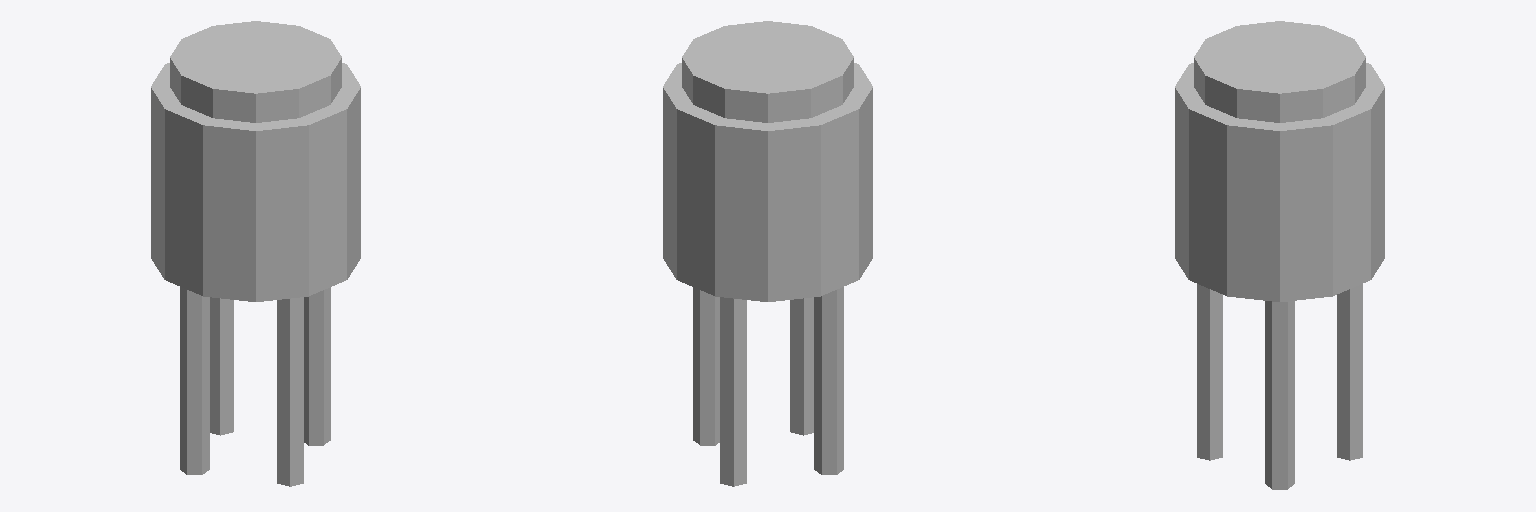
The model's file is tower_1.obj.
The picture shows the model from 3 angles: view 1: azimuth 30°, elevation 25°; view 2: azimuth 150°, elevation 25°; view 3: azimuth 270°, elevation 25°; orthographic projection.
Parts seen in each view (by area): view 1: Cylinder.007; view 2: Cylinder.007; view 3: Cylinder.007.
Part boxes in pixels (left/top/right/bottom): Cylinder.007: left=151, top=21, right=360, bottom=486; Cylinder.007: left=663, top=21, right=872, bottom=486; Cylinder.007: left=1175, top=21, right=1384, bottom=489.
Size of the model in its own units: 2 by 4.16 by 2.